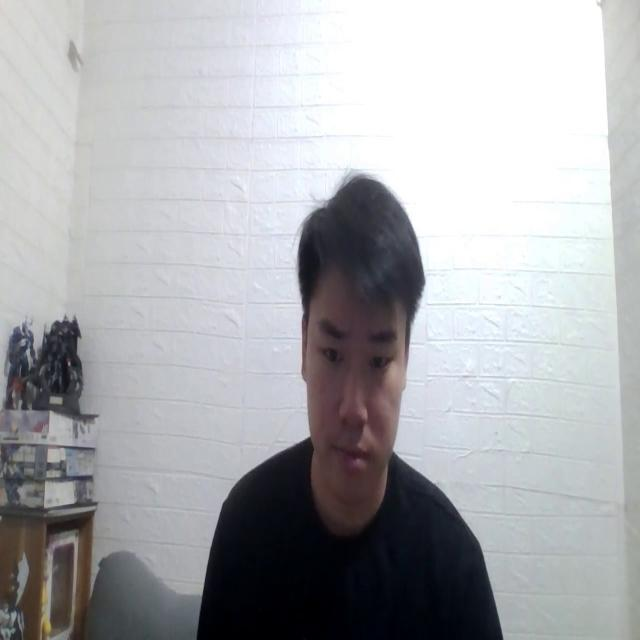student: (198, 166, 504, 640)
